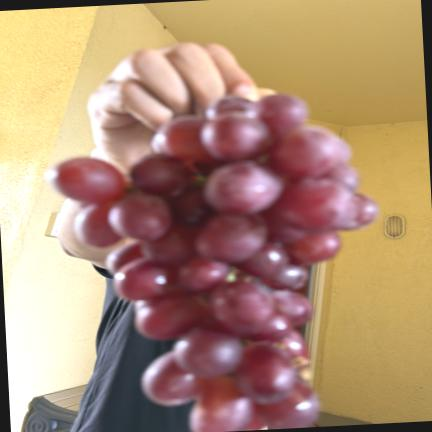grape_cluster: (48, 94, 377, 432)
